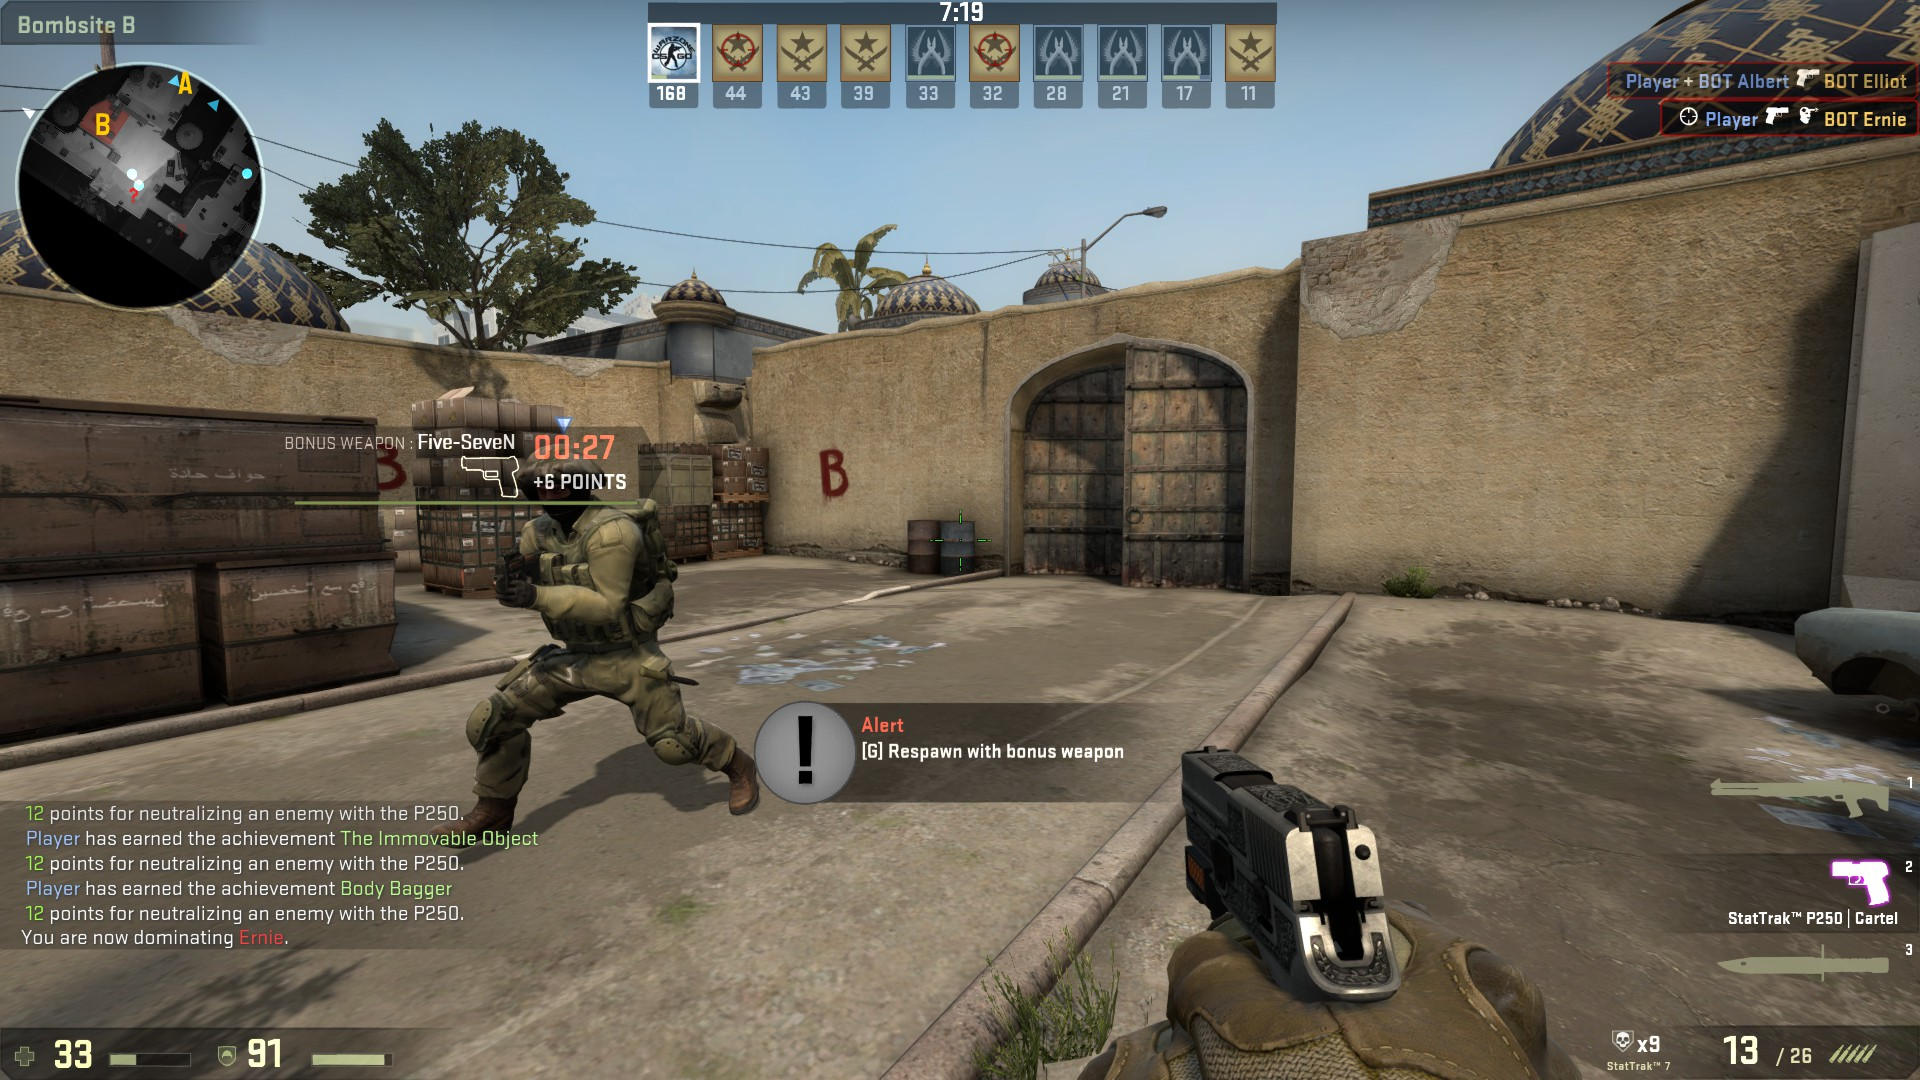c: (460, 443, 717, 853)
ch: (501, 431, 632, 538)
